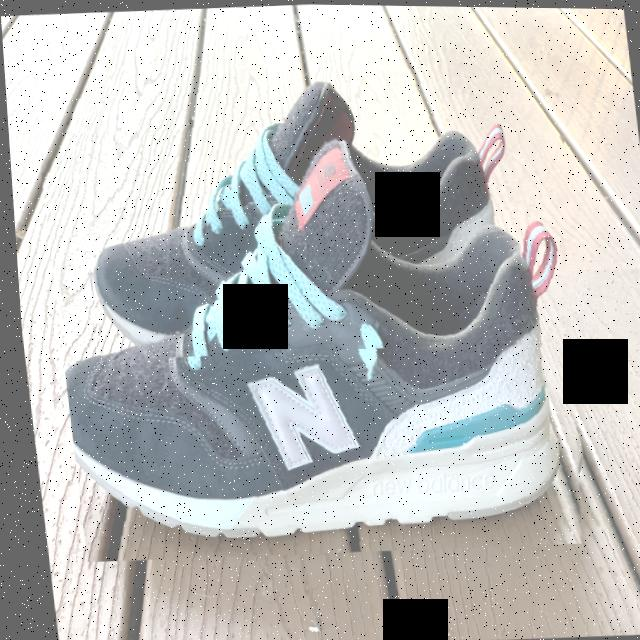shoe: (35, 124, 606, 568), (66, 59, 534, 366)
